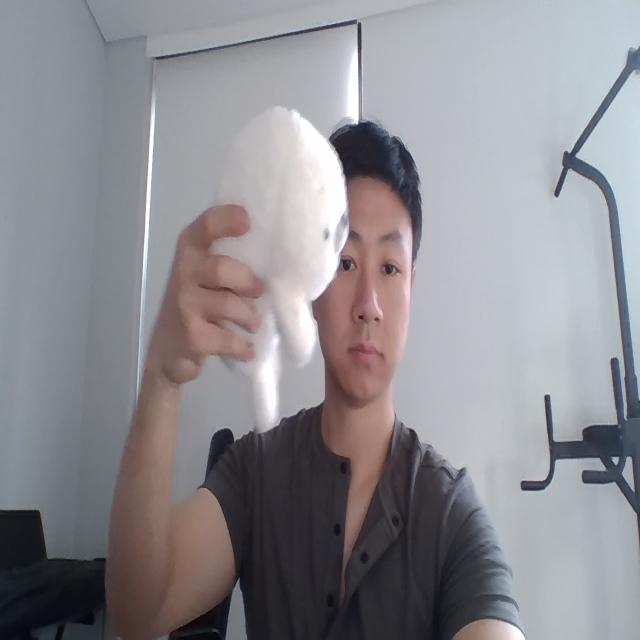seal_bb: (207, 104, 348, 374)
